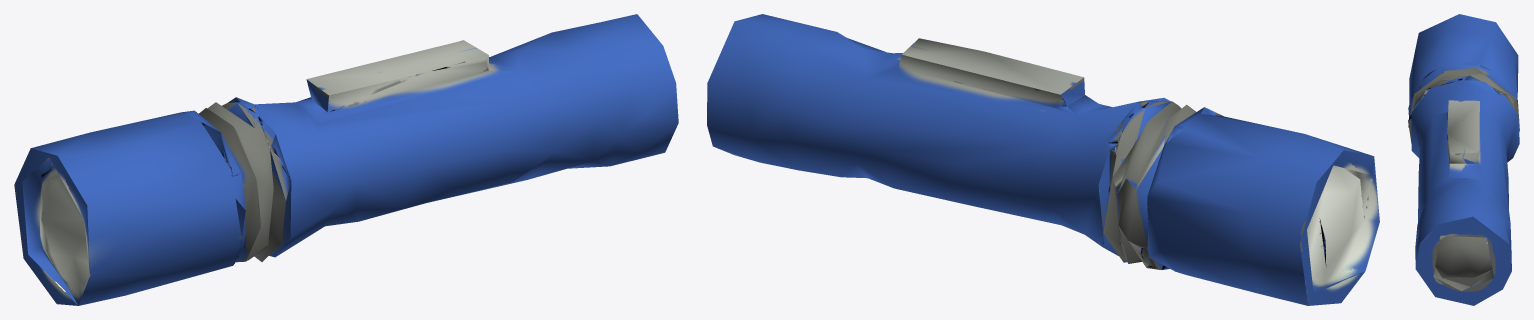
Rendered from Flashlight.fbx.
The picture shows the model from 3 angles, left to right: view 1: azimuth 30°, elevation 25°; view 2: azimuth 150°, elevation 25°; view 3: azimuth 270°, elevation 25°; orthographic projection. The views are drawn at different scales.
Parts seen in each view (by area): view 1: Mesh1.0; view 2: Mesh1.0; view 3: Mesh1.0.
Boxes of the visible parts, left/top/right/bottom form: Mesh1.0: left=14, top=14, right=678, bottom=305; Mesh1.0: left=707, top=14, right=1379, bottom=305; Mesh1.0: left=1408, top=14, right=1519, bottom=305.
Size of the model in its own units: 201 by 49.26 by 48.32.
Materials: 1 (1 with a texture image).
